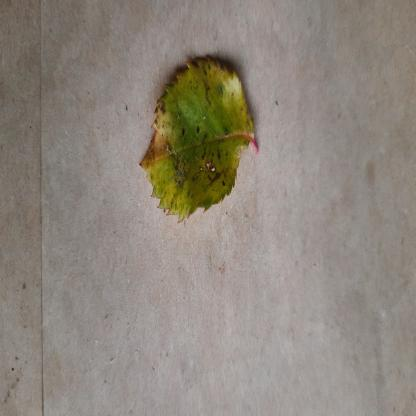black-spot: (140, 55, 262, 229)
